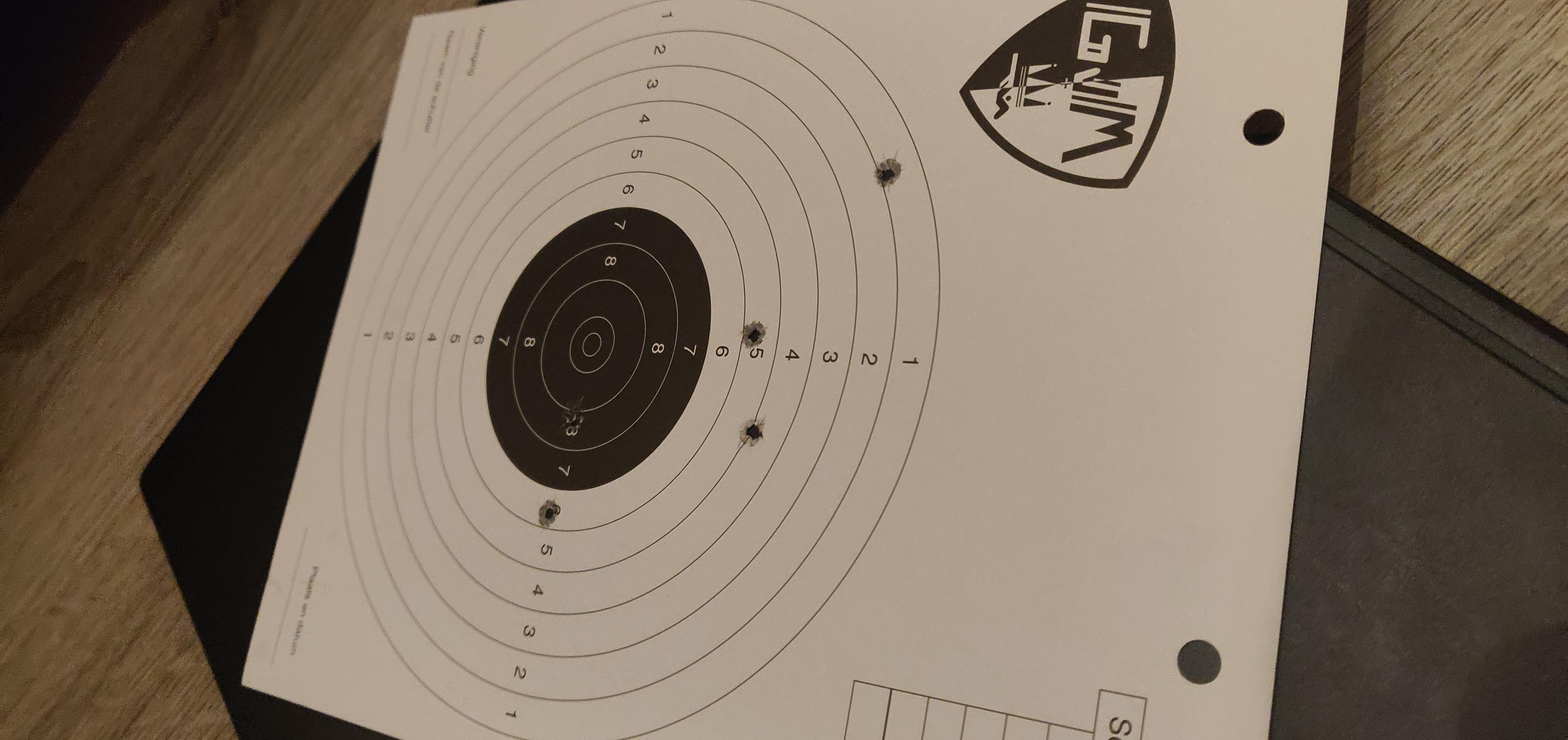hole: (647, 263, 725, 277), (619, 348, 687, 362), (1169, 412, 1237, 426), (827, 349, 892, 362), (447, 253, 511, 264)
